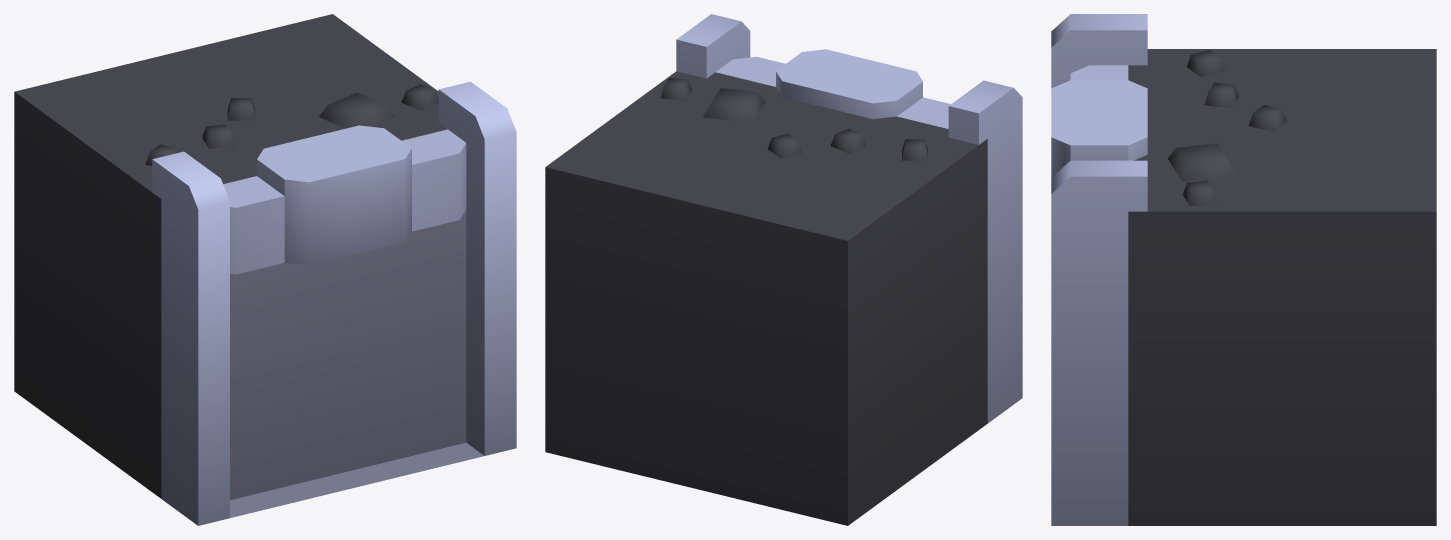
The model's file is wall-half.002_lev5.glb.
3 renders of one model, left to right at view 1: azimuth 30°, elevation 25°; view 2: azimuth 150°, elevation 25°; view 3: azimuth 270°, elevation 25°, orthographic. The views are drawn at different scales.
Parts seen in each view (by area): view 1: wall-half.002_lev5; view 2: wall-half.002_lev5; view 3: wall-half.002_lev5.
Part boxes in pixels (x1,y1,x2,y2): wall-half.002_lev5: [14, 14, 516, 525]; wall-half.002_lev5: [545, 14, 1022, 525]; wall-half.002_lev5: [1051, 14, 1436, 525].
Bounding box in the file's own units: 4 × 4 × 4.
1 material, 1 textured.
